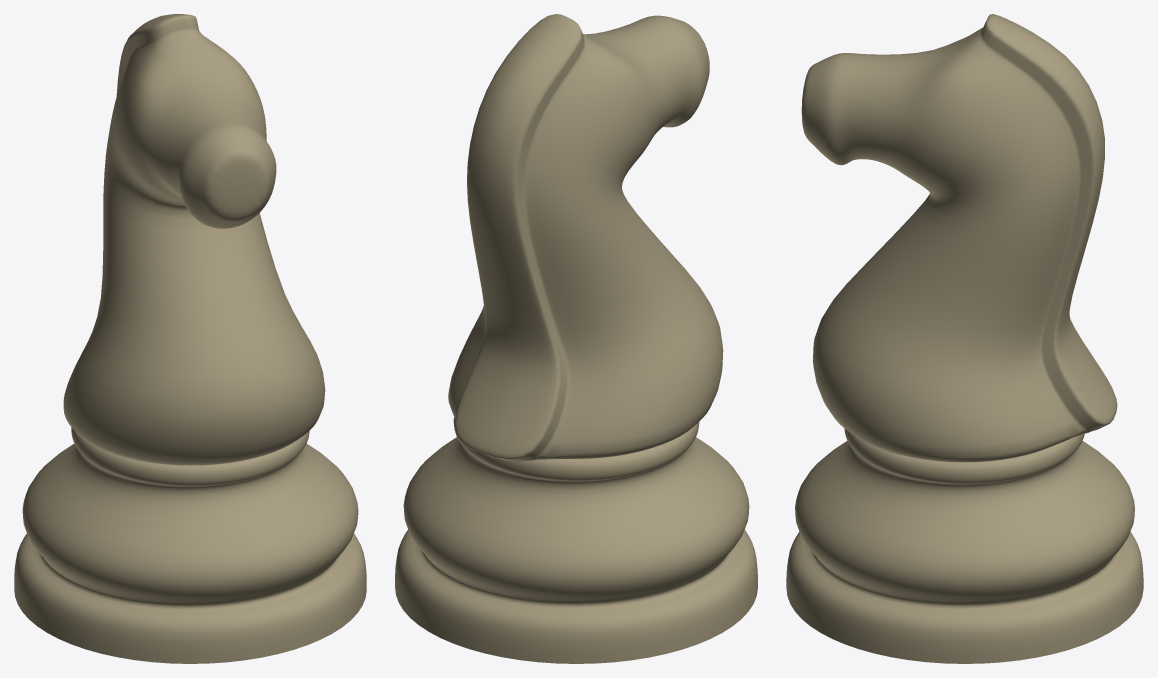
The model's file is knight.obj.
3 renders of one model, left to right at view 1: azimuth 30°, elevation 25°; view 2: azimuth 150°, elevation 25°; view 3: azimuth 270°, elevation 25°, orthographic. The views are drawn at different scales.
Visible parts, largest first — view 1: Circle.008; view 2: Circle.008; view 3: Circle.008.
Part boxes in pixels (x1,y1,x2,y2): Circle.008: [14, 14, 366, 663]; Circle.008: [395, 14, 757, 663]; Circle.008: [786, 14, 1143, 663].
Size of the model in its own units: 1.51 by 2.66 by 1.51.
